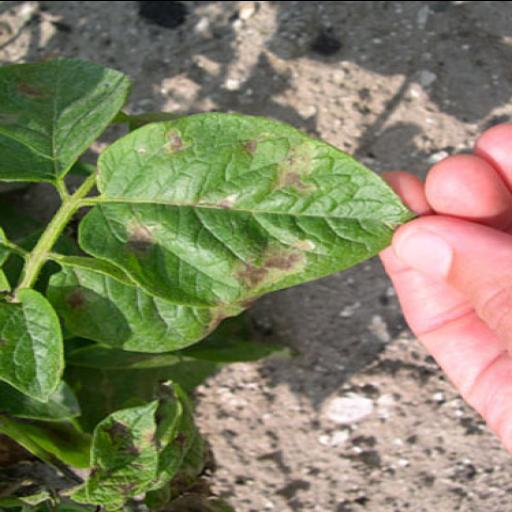disease_tomato: (72, 110, 414, 310)
